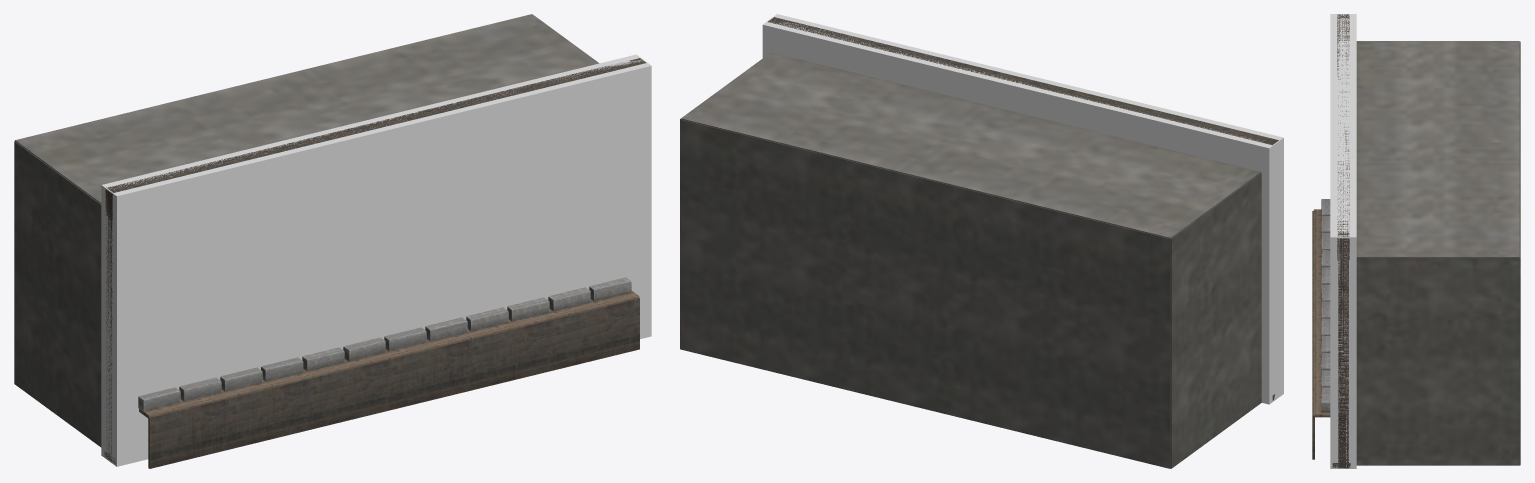
Rendered from sf08_front.gltf.
The picture shows the model from 3 angles, left to right: view 1: azimuth 30°, elevation 25°; view 2: azimuth 150°, elevation 25°; view 3: azimuth 270°, elevation 25°; orthographic projection. The views are drawn at different scales.
Visible parts, largest first — view 1: sf08_front_COL, sf08_front_LOD0; view 2: sf08_front_LOD0, sf08_front_COL; view 3: sf08_front_LOD0, sf08_front_COL.
Part boxes in pixels (<box>): sf08_front_COL: <box>101,54,651,466</box>; sf08_front_LOD0: <box>14,14,646,468</box>; sf08_front_LOD0: <box>680,17,1278,468</box>; sf08_front_COL: <box>762,14,1283,404</box>; sf08_front_LOD0: <box>1312,14,1520,468</box>; sf08_front_COL: <box>1330,14,1356,468</box>.
Size of what is drawn, in the model's own units: 6 by 2.9 by 2.36.
1 material, 1 textured.
